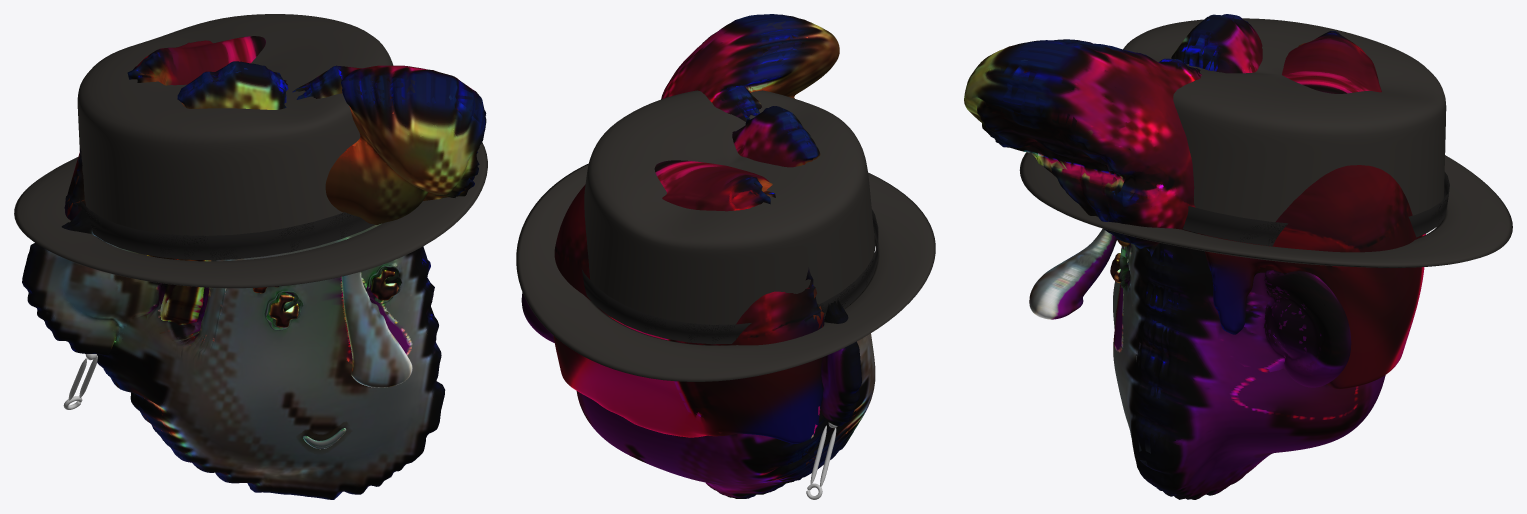
File: face-pixel.glb
The picture shows the model from 3 angles, left to right: view 1: azimuth 30°, elevation 25°; view 2: azimuth 150°, elevation 25°; view 3: azimuth 270°, elevation 25°; orthographic projection. The views are drawn at different scales.
Visible parts, largest first — view 1: Skin, Hat, Hair, HatBand, Pin, EyeL, EyeR; view 2: Hat, Hair, Skin, HatBand, Pin; view 3: Hair, Skin, Hat, HatBand.
Part boxes in pixels (box(x1,y1,x2,y2)): Skin: box(22, 208, 445, 499); Hat: box(14, 14, 487, 288); Hair: box(64, 36, 486, 325); HatBand: box(79, 198, 374, 260); Pin: box(63, 354, 97, 409); EyeL: box(269, 294, 299, 327); EyeR: box(370, 270, 398, 300); Hat: box(516, 90, 935, 381); Hair: box(553, 14, 839, 443); Skin: box(521, 292, 875, 498); HatBand: box(582, 209, 878, 344); Pin: box(806, 422, 837, 499); Hair: box(964, 14, 1425, 389); Skin: box(1029, 228, 1385, 499); Hat: box(1019, 18, 1512, 267); HatBand: box(1183, 172, 1449, 246).
Bounding box in the file's own units: 2.83 × 3.11 × 3.38.
11 materials, 7 textured.
